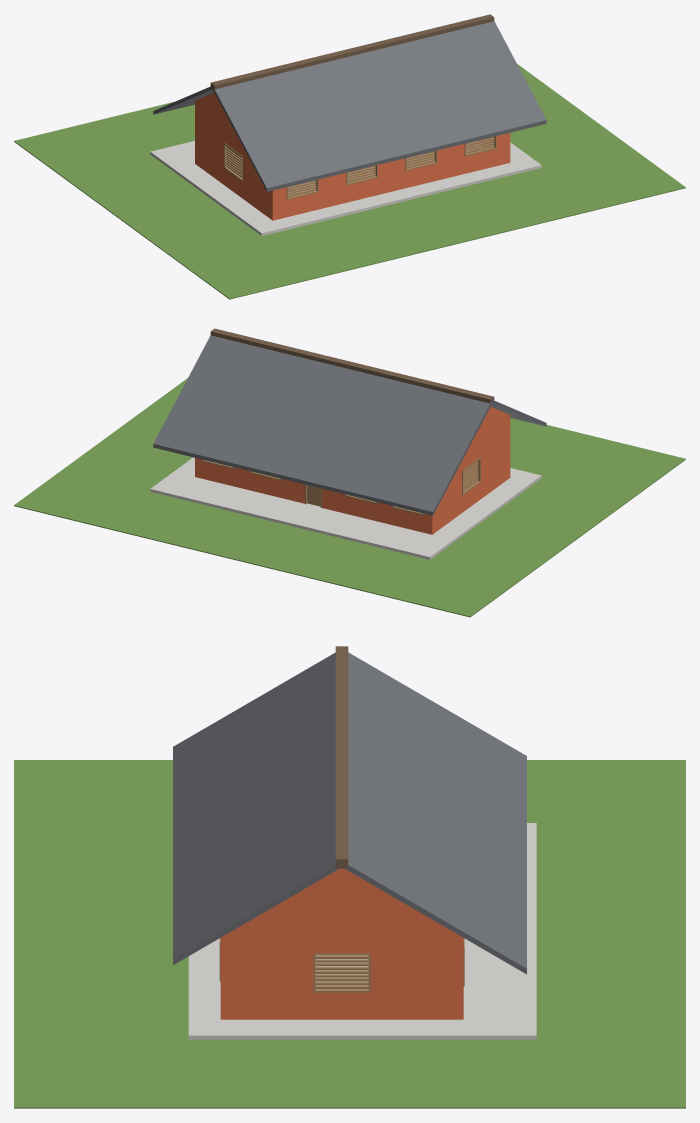
The model's file is ugi.glb.
3 renders of one model, top to bottom at view 1: azimuth 30°, elevation 25°; view 2: azimuth 150°, elevation 25°; view 3: azimuth 270°, elevation 25°, orthographic. The views are drawn at different scales.
Visible parts, largest first — view 1: UGÍ - Unidad de Gestión e Integral; view 2: UGÍ - Unidad de Gestión e Integral; view 3: UGÍ - Unidad de Gestión e Integral.
Part boxes in pixels (x1,y1,x2,y2): UGÍ - Unidad de Gestión e Integral: (14,14,685,299); UGÍ - Unidad de Gestión e Integral: (14,328,685,617); UGÍ - Unidad de Gestión e Integral: (14,646,685,1108).
Bounding box in the file's own units: 25.85 × 6.33 × 21.15.
